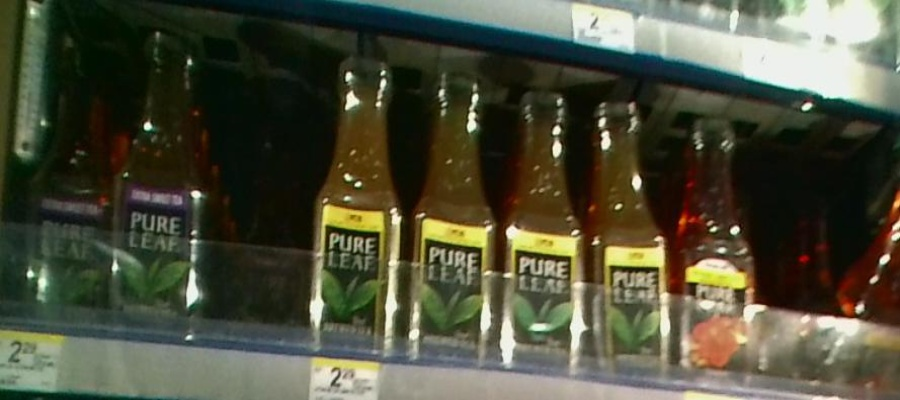bottle: (309, 45, 405, 357), (114, 28, 209, 335), (409, 65, 497, 361), (26, 27, 113, 317), (500, 84, 587, 367), (590, 87, 674, 379), (677, 112, 762, 382)
